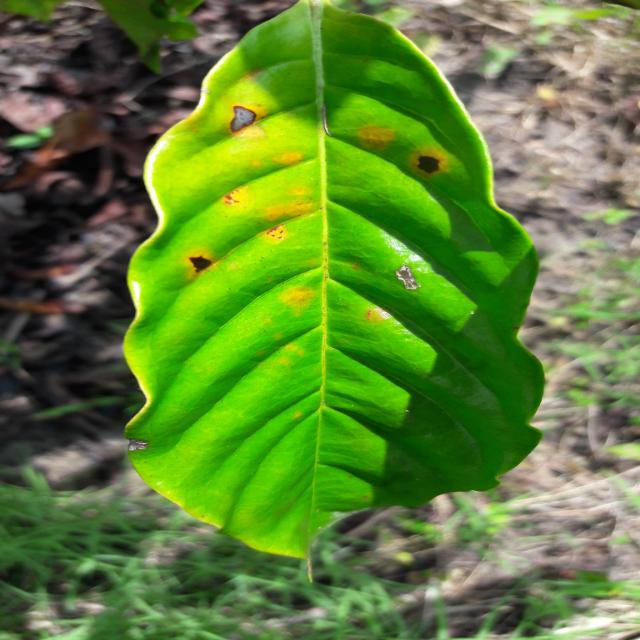Enfermedad-Roya: (121, 0, 546, 562)
